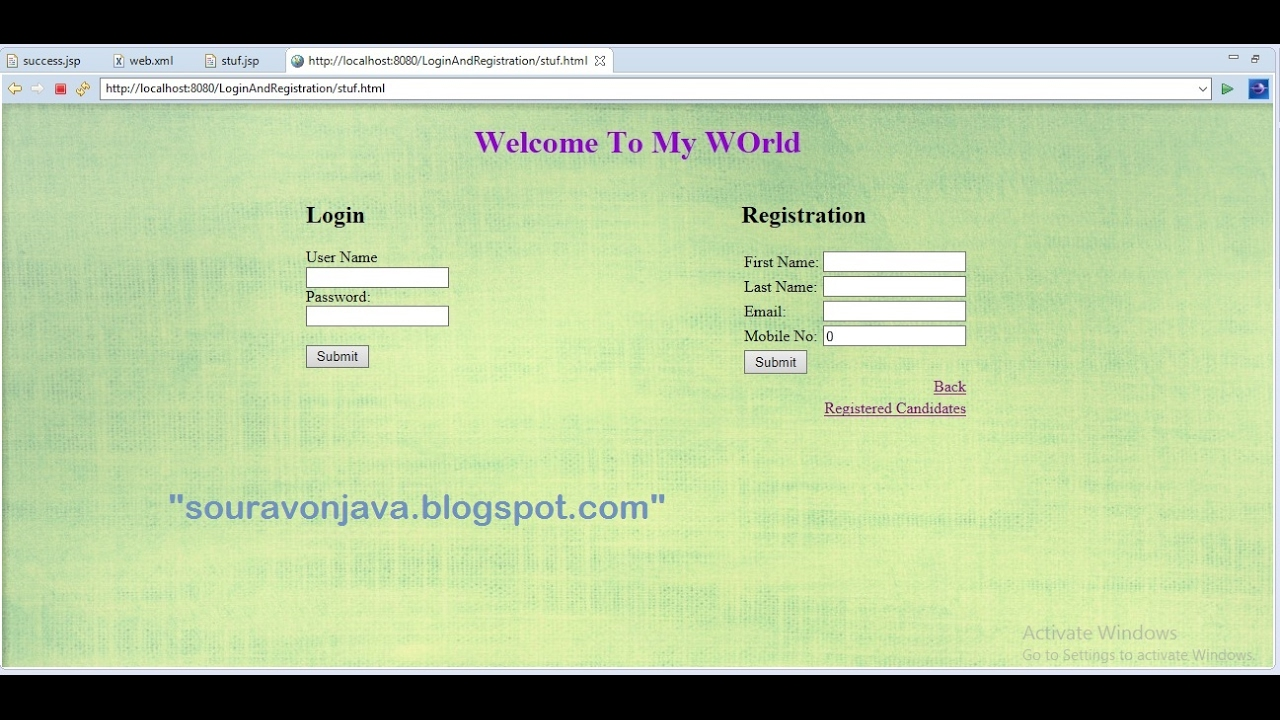button: (302, 342, 381, 377)
textbox: (302, 303, 467, 333), (302, 265, 466, 291)
